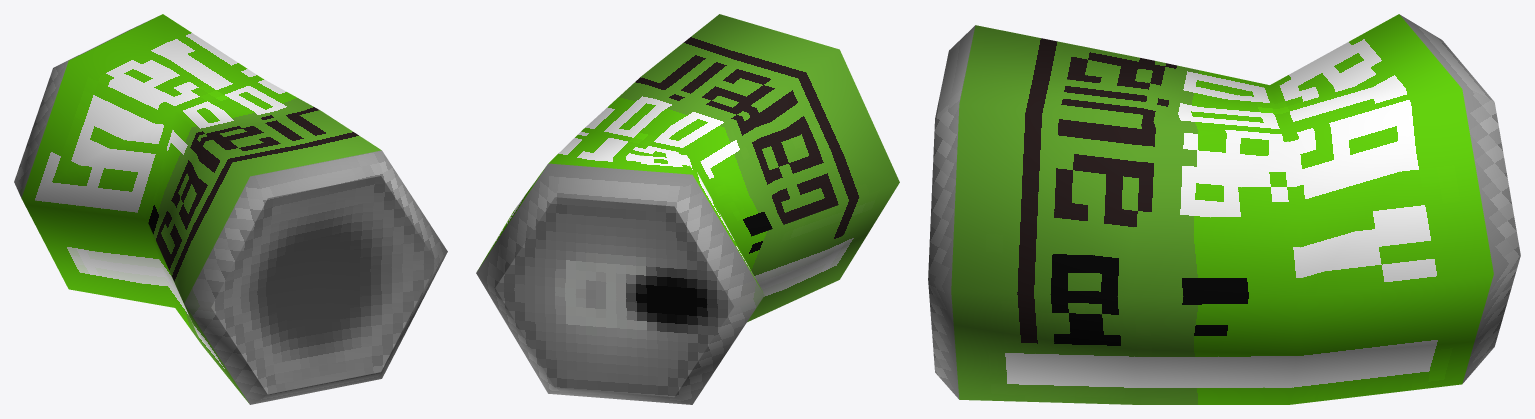
Rendered from EmptyGenericCanPop.fbx.
The picture shows the model from 3 angles, left to right: view 1: azimuth 30°, elevation 25°; view 2: azimuth 150°, elevation 25°; view 3: azimuth 270°, elevation 25°; orthographic projection. The views are drawn at different scales.
Parts seen in each view (by area): view 1: EmptyPopCan.001; view 2: EmptyPopCan.001; view 3: EmptyPopCan.001.
Boxes of the visible parts, x1,y1,x2,y2 form: EmptyPopCan.001: (14,14,447,404); EmptyPopCan.001: (476,14,899,404); EmptyPopCan.001: (928,14,1520,404).
Size of the model in its own units: 17.12 by 13.67 by 24.85.
